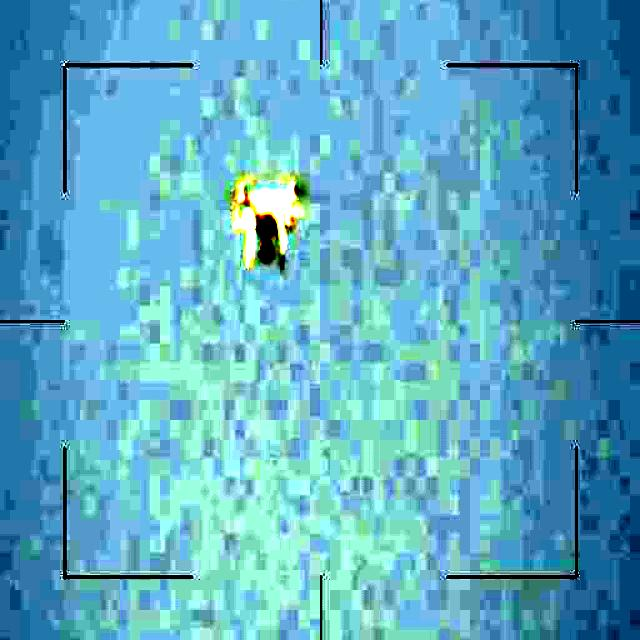bird: (219, 172, 315, 272)
